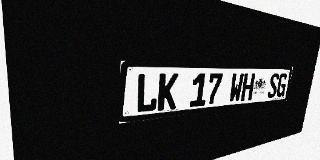1: (189, 73, 208, 107)
7: (205, 73, 223, 105)
G: (276, 73, 288, 97)
H: (240, 73, 255, 101)
K: (157, 73, 179, 111)
L: (135, 73, 159, 113)
S: (267, 73, 280, 98)
W: (228, 73, 244, 103)
